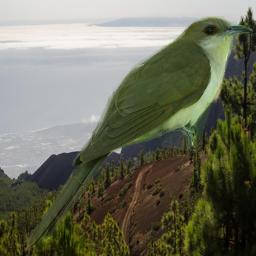Cuckoo: (26, 16, 253, 252)
